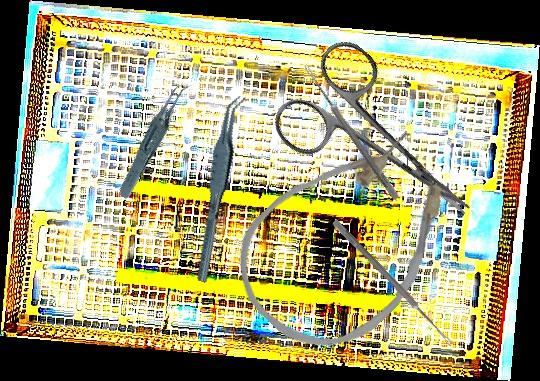Cannula: (211, 101, 490, 378)
Iris Scissors: (263, 32, 505, 262)
Surgical Spoon: (331, 219, 455, 347), (301, 63, 401, 201)
Tissue Forceps: (174, 92, 263, 284), (97, 78, 214, 201)
